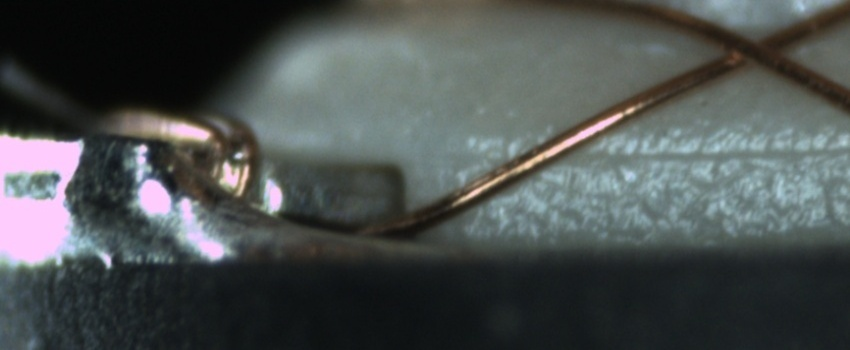CL: (708, 20, 805, 76)
DL: (436, 127, 849, 189)
TE: (73, 97, 268, 223)
